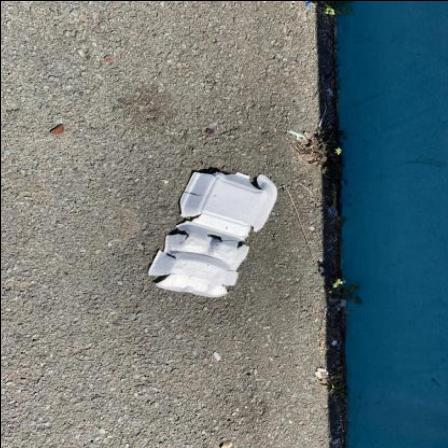Cigarette: (331, 375, 343, 379)
Other plastic: (319, 104, 327, 128), (289, 132, 306, 141), (214, 352, 222, 360)
Plastic container: (148, 171, 278, 297)
Unlabeled litter: (328, 209, 338, 215), (341, 299, 347, 307), (305, 2, 311, 8)
